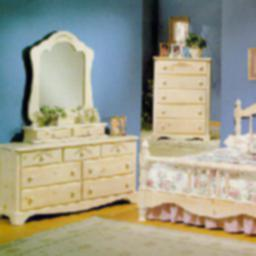Armario: (153, 57, 210, 144)
